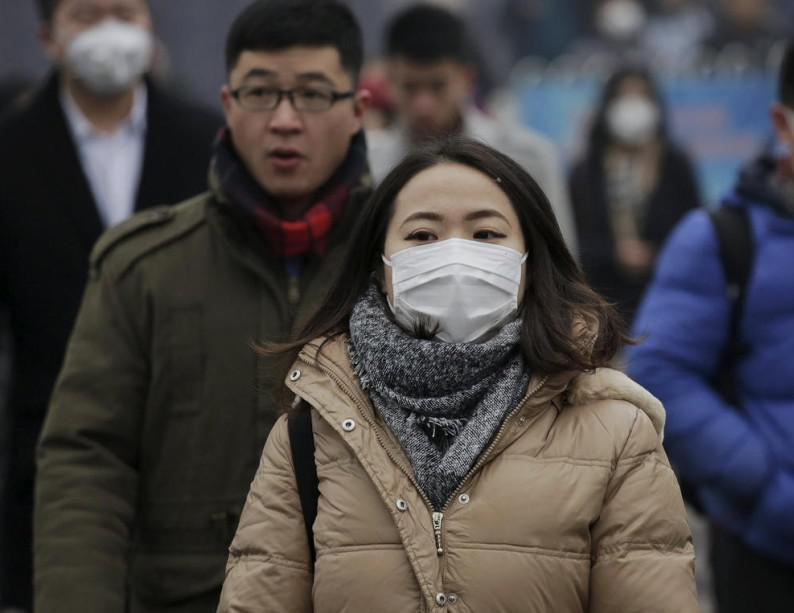NONE: (225, 62, 351, 188), (395, 66, 453, 127)
OK: (382, 205, 519, 342), (55, 4, 147, 96), (605, 82, 664, 143)
